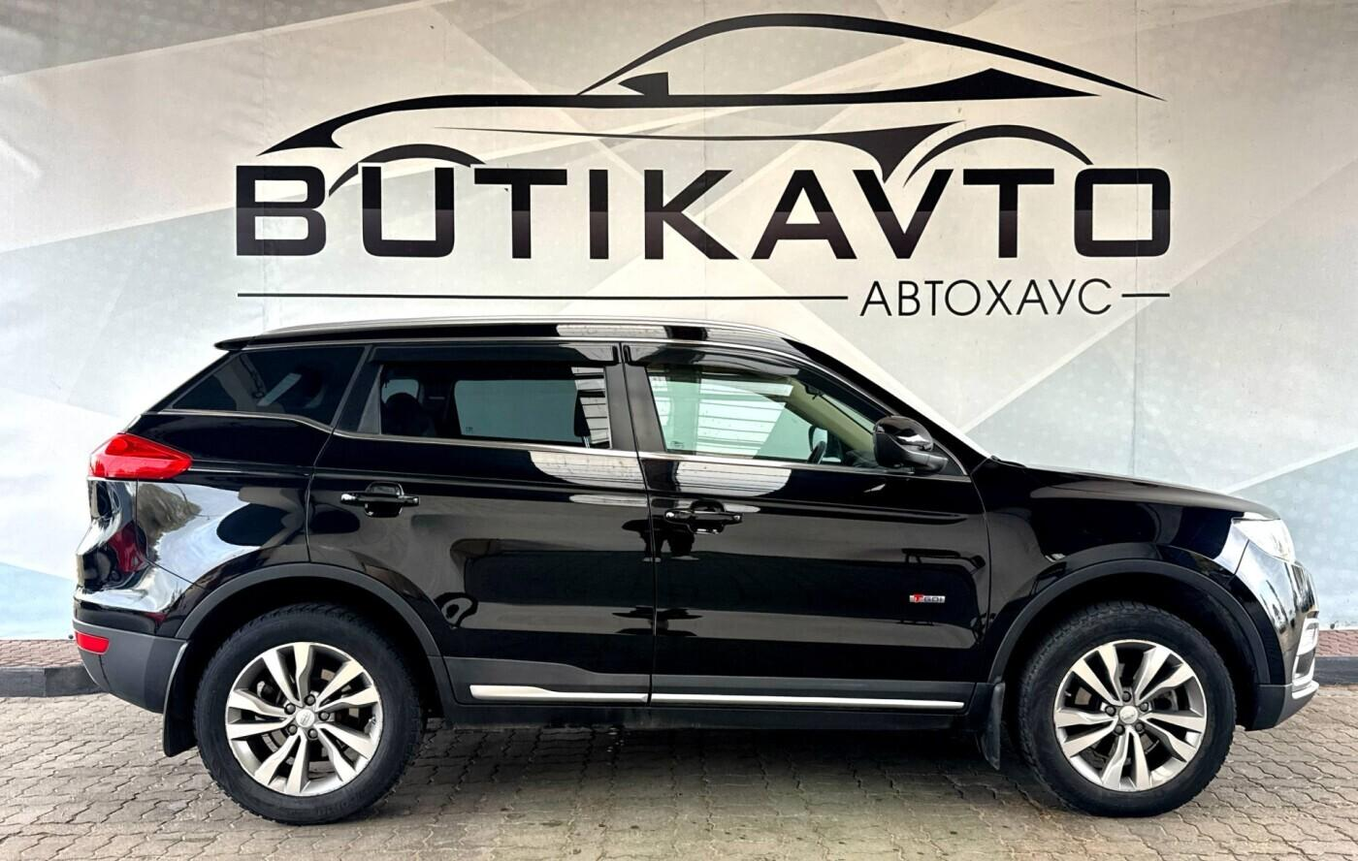Atlas_2016-2023: (63, 313, 1324, 829)
